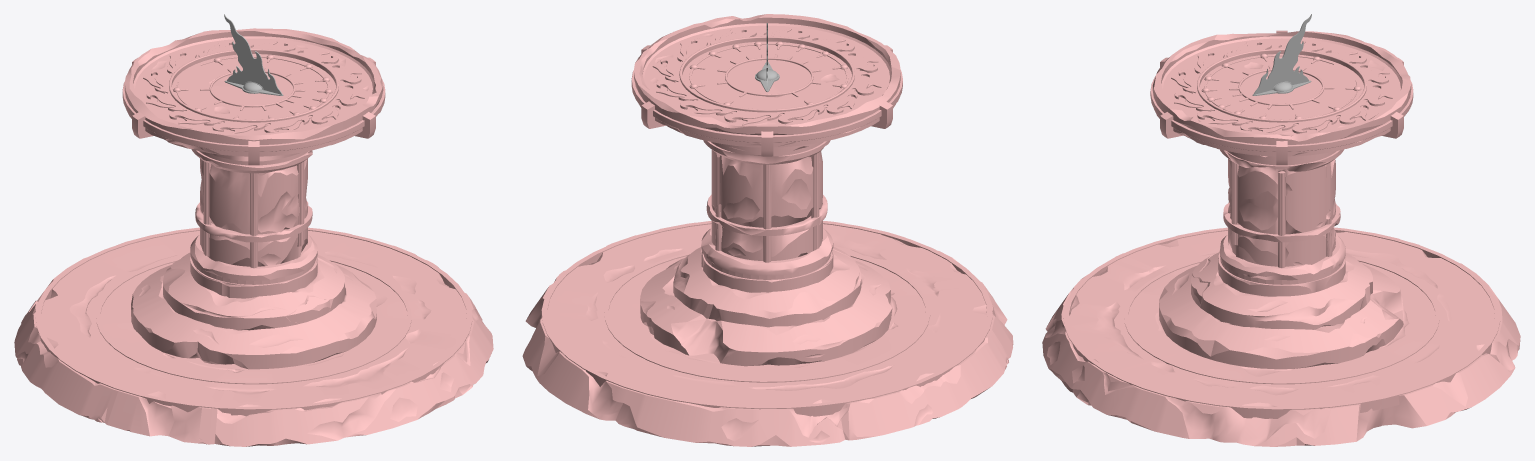
The model's file is sundial2222.fbx.
3 views of the same model, side by side, from view 1: azimuth 30°, elevation 25°; view 2: azimuth 150°, elevation 25°; view 3: azimuth 270°, elevation 25° (orthographic). The views are drawn at different scales.
Visible parts, largest first — view 1: SundialUVd:polySurface536 SundialUVd:polySurface1.001, SundialUVd:polySurface536 SundialUVd:polySurface1, SundialUVd:polySurface621 SundialUVd:polySurface1, polySurface40, polySurface1; view 2: SundialUVd:polySurface536 SundialUVd:polySurface1.001, SundialUVd:polySurface536 SundialUVd:polySurface1, SundialUVd:polySurface621 SundialUVd:polySurface1, polySurface40, polySurface1; view 3: SundialUVd:polySurface536 SundialUVd:polySurface1.001, SundialUVd:polySurface536 SundialUVd:polySurface1, SundialUVd:polySurface621 SundialUVd:polySurface1, polySurface40, polySurface1.
Part boxes in pixels (x1,y1,x2,y2): SundialUVd:polySurface536 SundialUVd:polySurface1.001: (14,228,493,446); SundialUVd:polySurface536 SundialUVd:polySurface1: (124,28,383,330); SundialUVd:polySurface621 SundialUVd:polySurface1: (131,149,376,369); polySurface40: (35,36,472,416); polySurface1: (224,14,283,95); SundialUVd:polySurface536 SundialUVd:polySurface1.001: (522,221,1013,446); SundialUVd:polySurface536 SundialUVd:polySurface1: (634,14,900,327); SundialUVd:polySurface621 SundialUVd:polySurface1: (640,140,892,366); polySurface40: (541,23,992,416); polySurface1: (755,23,779,91); SundialUVd:polySurface536 SundialUVd:polySurface1.001: (1042,228,1520,446); SundialUVd:polySurface536 SundialUVd:polySurface1: (1152,31,1411,329); SundialUVd:polySurface621 SundialUVd:polySurface1: (1159,149,1403,369); polySurface40: (1063,30,1500,418); polySurface1: (1252,14,1311,95).
Bounding box in the file's own units: 34.62 × 25.9 × 34.62.
